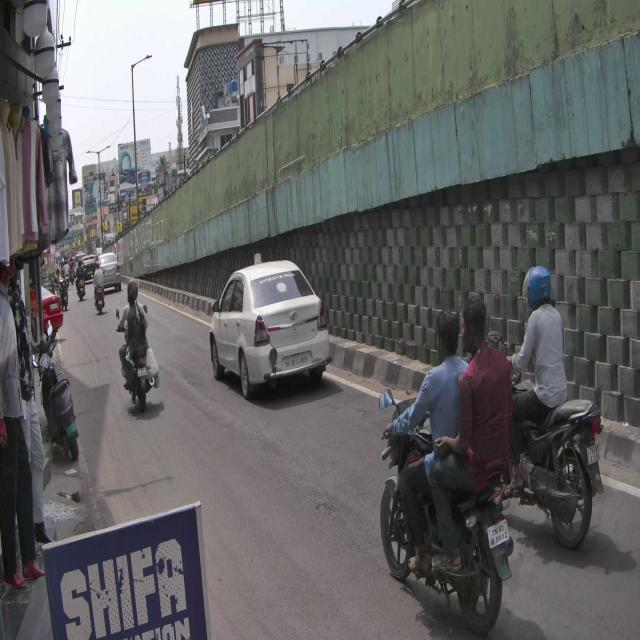double_rider: (377, 288, 513, 637)
